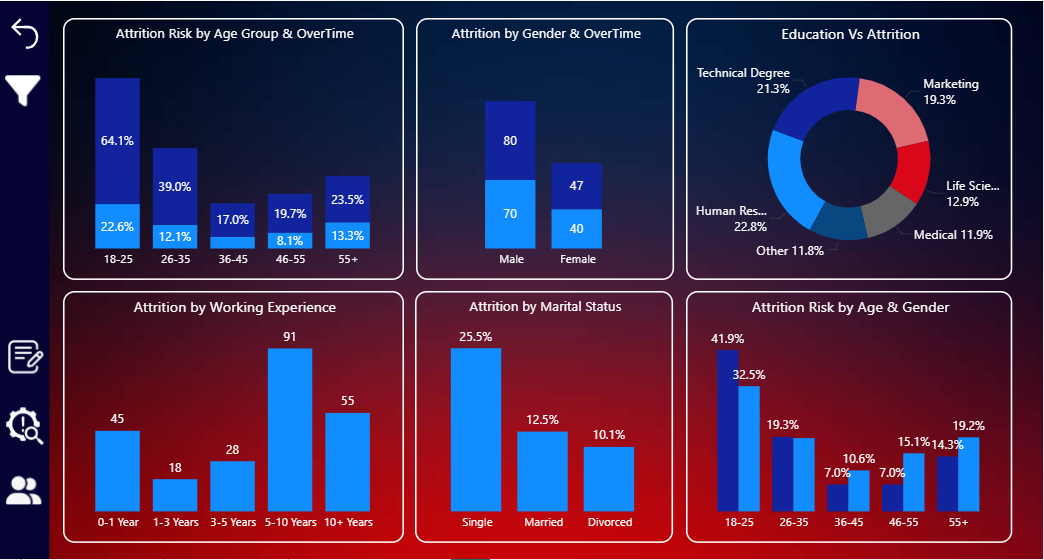

The page's visual inventory and layout, read from the dashboard file:
{"tool":"powerbi","page":{"name":"Demographic Analysis","canvas":[1345,720],"ordinal":2},"visuals":[{"type":"columnChart","title":"Attrition Risk by Age Group & OverTime","fields":{"Category":["HR Analytics.Age Group"],"Series":["HR Analytics.OverTime"],"Y":["Measure Table.Attrition Rate %"]},"box":[81,21.7,439.7,338.4],"z":0},{"type":"actionButton","box":[5.8,422.3,56.4,73.8],"z":0,"group":"g1"},{"type":"columnChart","title":"Attrition by Gender & OverTime","fields":{"Series":["HR Analytics.OverTime"],"Category":["HR Analytics.Gender"],"Y":["Measure Table.Total Attrition"]},"box":[536.6,21.7,332.6,338.4],"z":1000},{"type":"actionButton","box":[2.9,512,59.3,75.2],"z":1000,"group":"g1"},{"type":"columnChart","title":"Attrition by Marital Status","fields":{"Category":["HR Analytics.Marital Status"],"Y":["Measure Table.Attrition Rate %"]},"box":[535.1,374.6,332.6,325.4],"z":2000},{"type":"actionButton","box":[4.3,603.1,53.5,57.8],"z":2000,"group":"g1"},{"type":"clusteredColumnChart","title":"Attrition by Working Experience","fields":{"Y":["Measure Table.Total Attrition"],"Category":["HR Analytics.Working Years Group"]},"box":[81,374.6,439.7,325.4],"z":3000},{"type":"donutChart","title":"Education Vs Attrition","fields":{"Category":["HR Analytics.Education Field"],"Y":["Measure Table.Attrition Rate %"]},"box":[885.1,21.7,420.9,338.4],"z":4000},{"type":"clusteredColumnChart","title":"Attrition Risk by Age & Gender","fields":{"Category":["HR Analytics.Age Group"],"Y":["Measure Table.Attrition Rate %"],"Series":["HR Analytics.Gender"]},"box":[885.1,374.6,420.9,325.4],"z":5000},{"type":"shape","box":[0,0,63.8,790],"z":6000},{"type":"actionButton","box":[6.2,14,51.3,56],"z":7000},{"type":"actionButton","box":[2.9,89.7,56.4,53.5],"z":8000},{"type":"group","id":"g1","title":"Side Buttons","box":[2.9,422.3,59.3,238.6],"z":8500}]}

Visuals, with their boxes in screenshot pixels (x1, y1, x2, y2):
"Attrition Risk by Age Group & OverTime" columnChart: <bbox>70, 19, 407, 278</bbox>
actionButton: <bbox>13, 326, 56, 382</bbox>
"Attrition by Gender & OverTime" columnChart: <bbox>419, 19, 674, 278</bbox>
actionButton: <bbox>10, 395, 56, 452</bbox>
"Attrition by Marital Status" columnChart: <bbox>418, 289, 672, 539</bbox>
actionButton: <bbox>11, 464, 52, 509</bbox>
"Attrition by Working Experience" clusteredColumnChart: <bbox>70, 289, 407, 539</bbox>
"Education Vs Attrition" donutChart: <bbox>686, 19, 1008, 278</bbox>
"Attrition Risk by Age & Gender" clusteredColumnChart: <bbox>686, 289, 1008, 539</bbox>
shape: <bbox>8, 3, 57, 559</bbox>
actionButton: <bbox>13, 13, 52, 56</bbox>
actionButton: <bbox>10, 71, 54, 112</bbox>
"Side Buttons" group: <bbox>10, 326, 56, 509</bbox>
